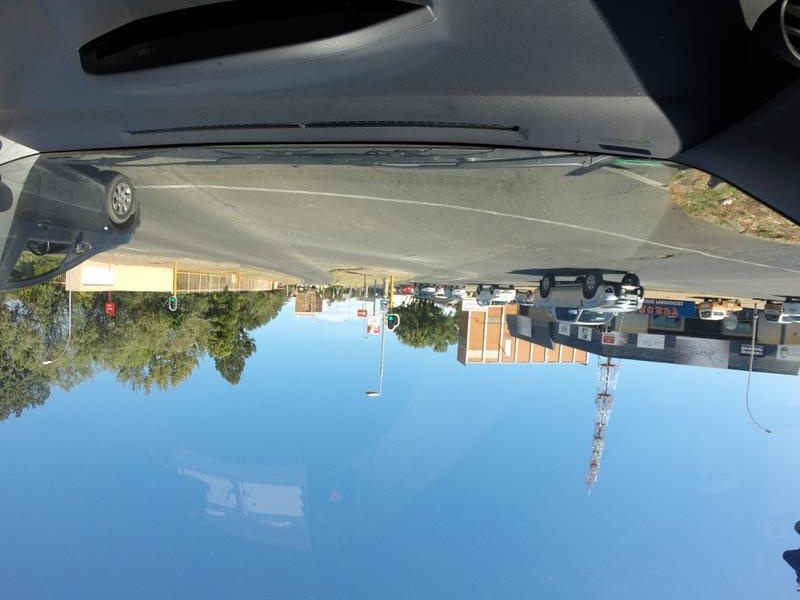pothole: (637, 252, 688, 263)
